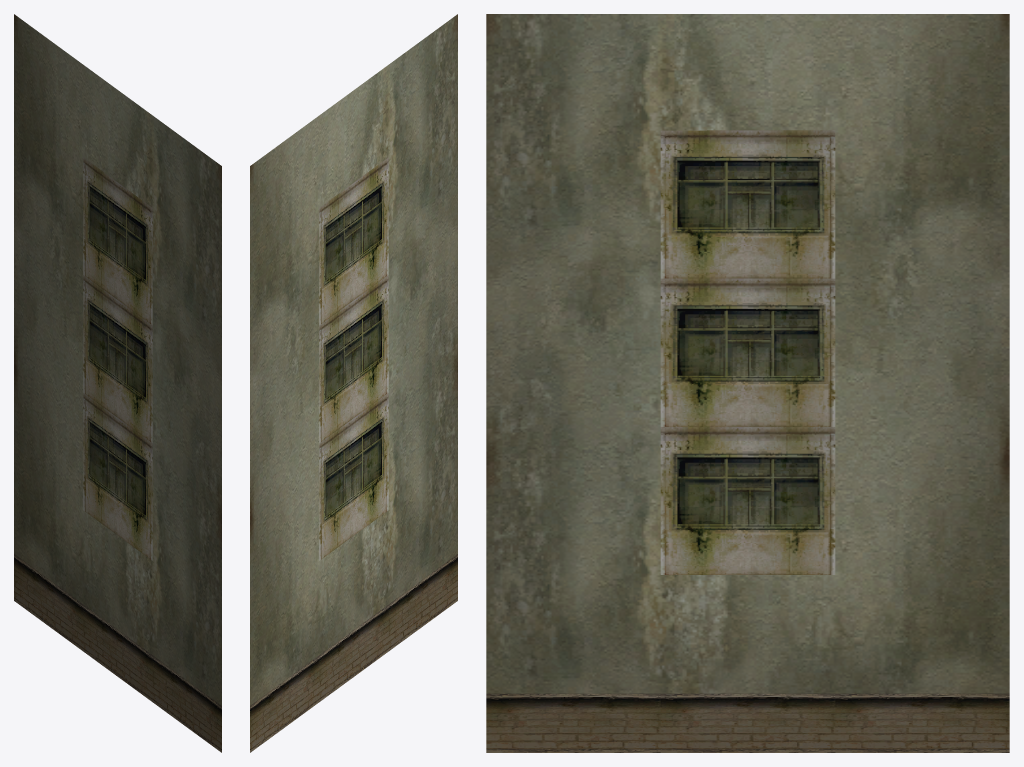
Rendered from M10_Z2_NewBuild03.glb.
3 renders of one model, left to right at view 1: azimuth 30°, elevation 25°; view 2: azimuth 150°, elevation 25°; view 3: azimuth 270°, elevation 25°, orthographic. The views are drawn at different scales.
Parts seen in each view (by area): view 1: M10_Z2_NEWBUILD03; view 2: M10_Z2_NEWBUILD03; view 3: M10_Z2_NEWBUILD03.
Boxes of the visible parts, x1,y1,x2,y2 form: M10_Z2_NEWBUILD03: [14, 14, 221, 752]; M10_Z2_NEWBUILD03: [250, 14, 457, 752]; M10_Z2_NEWBUILD03: [486, 14, 1009, 752].
Bounding box in the file's own units: 0 × 12.46 × 8.
3 materials, 3 textured.
